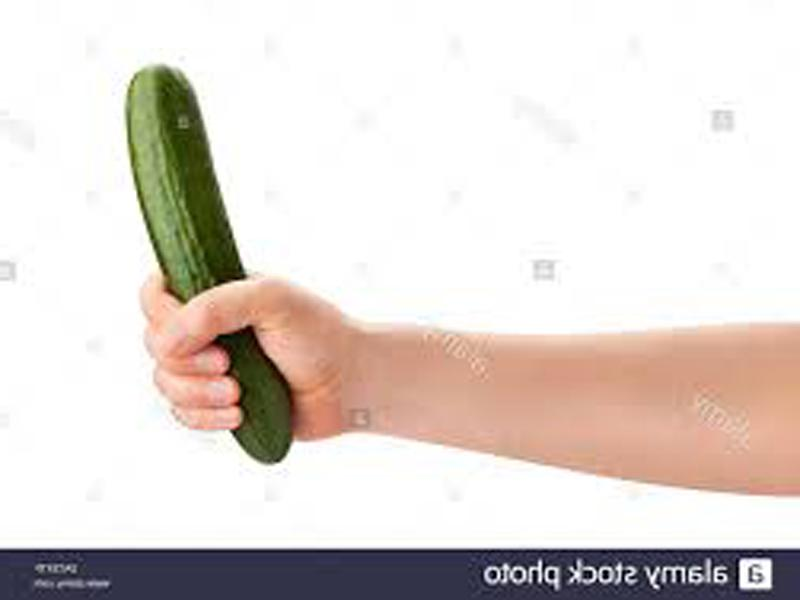Cucumber: (123, 66, 289, 463)
